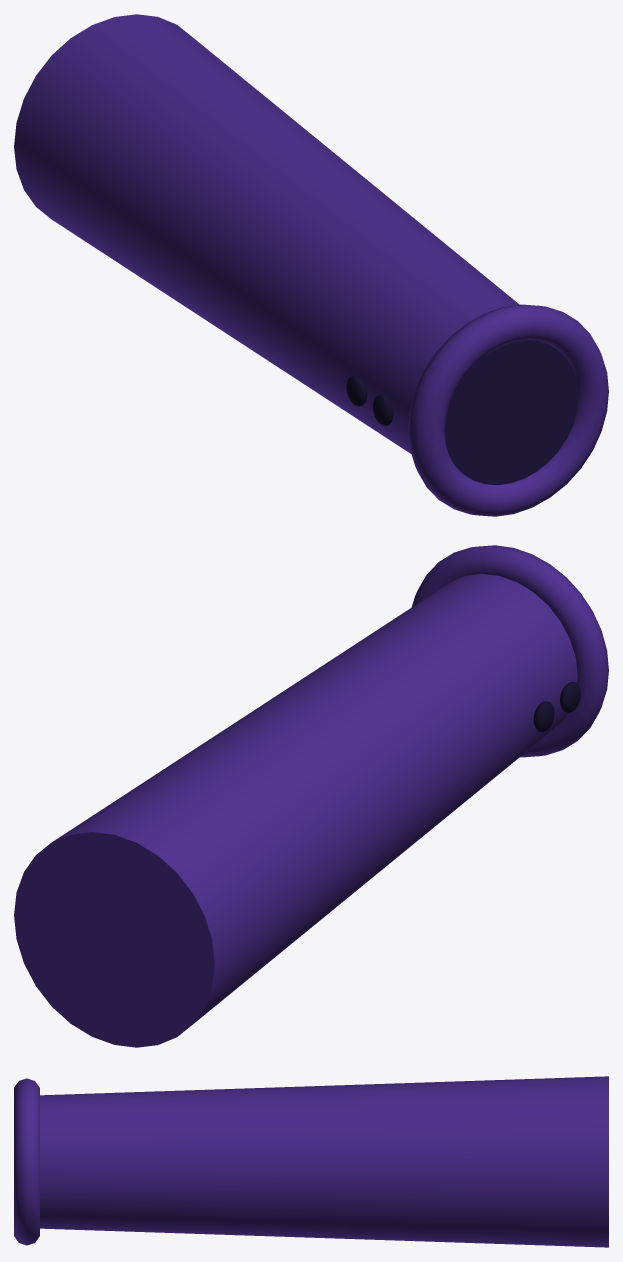
File: Sleeve.obj
3 views of the same model, one above another, from view 1: azimuth 30°, elevation 25°; view 2: azimuth 150°, elevation 25°; view 3: azimuth 270°, elevation 25° (orthographic). The views are drawn at different scales.
Parts seen in each view (by area): view 1: Sleeve, Lining, Buttons; view 2: Sleeve, Buttons; view 3: Sleeve.
Part boxes in pixels (x1=…): Sleeve: x1=14, y1=14, x2=608, y2=516; Lining: x1=444, y1=340, x2=578, y2=485; Buttons: x1=346, y1=375, x2=393, y2=425; Sleeve: x1=14, y1=545, x2=608, y2=1047; Buttons: x1=533, y1=682, x2=580, y2=732; Sleeve: x1=14, y1=1076, x2=608, y2=1247.
Size of the model in its own units: 0.176 by 0.176 by 0.6113.
